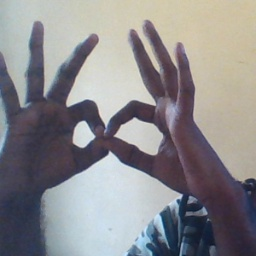B: (53, 76, 170, 183)
